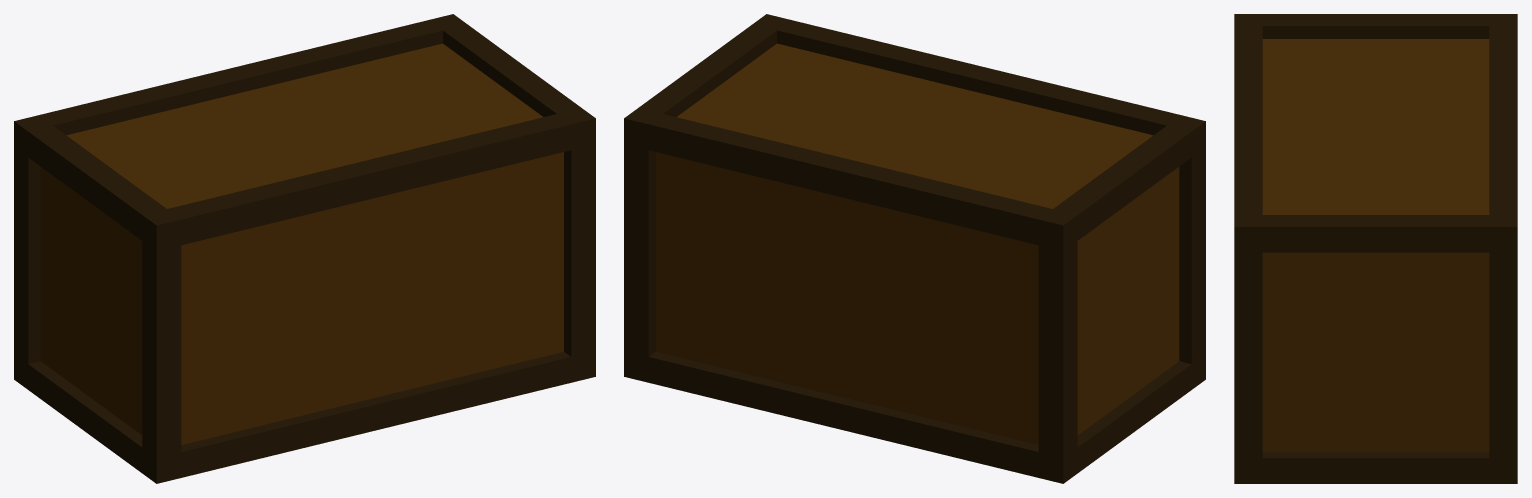
The model's file is Crate_2.fbx.
3 views of the same model, side by side, from view 1: azimuth 30°, elevation 25°; view 2: azimuth 150°, elevation 25°; view 3: azimuth 270°, elevation 25° (orthographic).
Visible parts, largest first — view 1: Cube.015; view 2: Cube.015; view 3: Cube.015.
Boxes of the visible parts, left/top/right/bottom form: Cube.015: left=14, top=14, right=595, bottom=483; Cube.015: left=624, top=14, right=1205, bottom=483; Cube.015: left=1234, top=14, right=1517, bottom=483.
Bounding box in the file's own units: 178 × 99.92 × 99.92.
